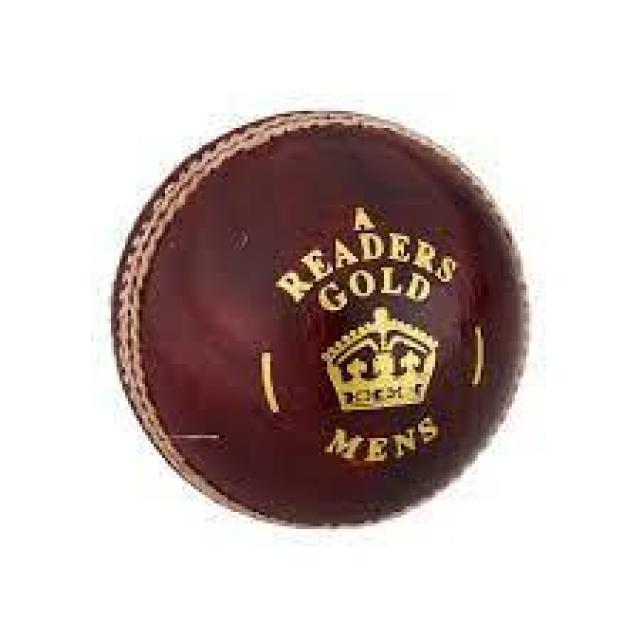ball: (108, 117, 543, 532)
